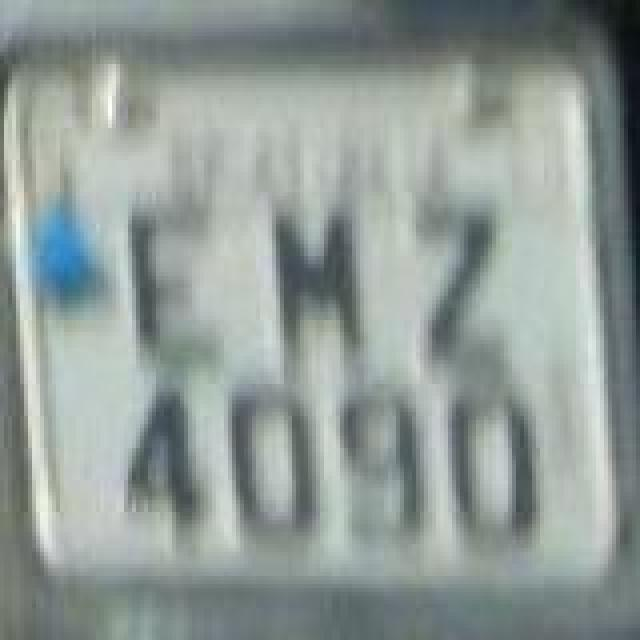4: (114, 374, 206, 562)
9: (342, 388, 426, 548)
E: (122, 190, 230, 362)
M: (264, 210, 376, 382)
O: (224, 386, 320, 550), (446, 384, 538, 552)
Z: (410, 198, 510, 378)
